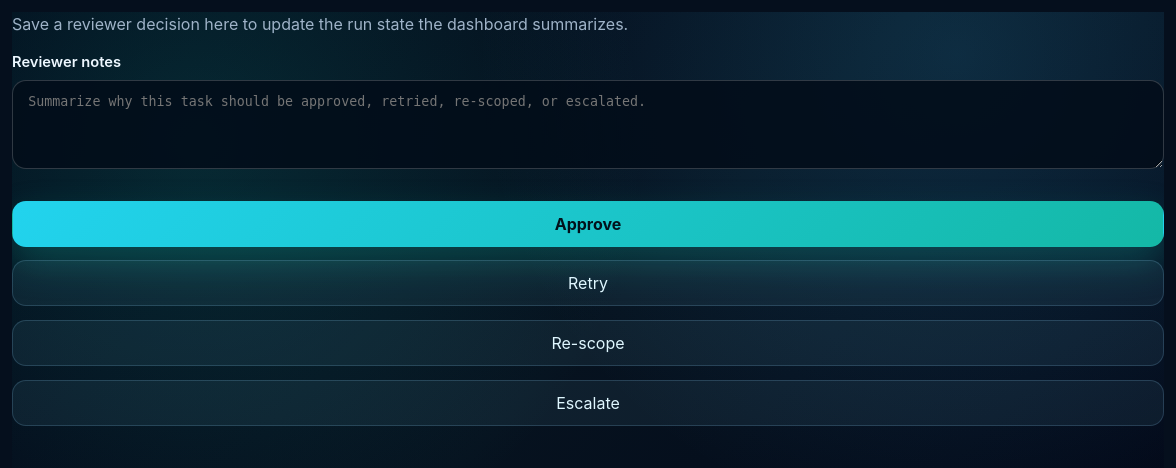
Scenario: App route and page component functions › submits reviewer decisions through TaskDecisionPanelBody
This screenshot has width=1176, height=468.
Replace the text in the text box labelled "Reviewer notes" with "Ship it." at (588, 124), box [12,80,1164,169]
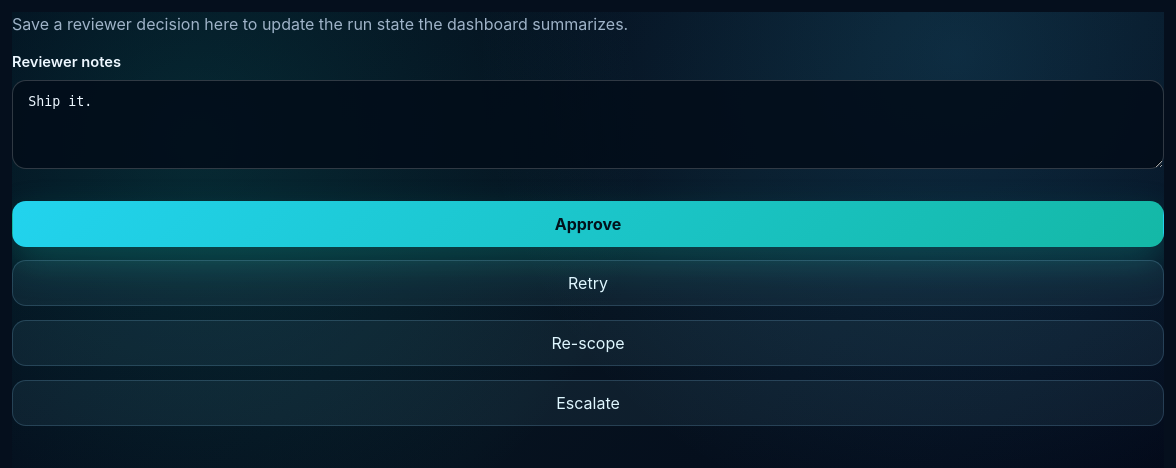
Click the button "Approve" at (588, 224), box [12,201,1164,247]
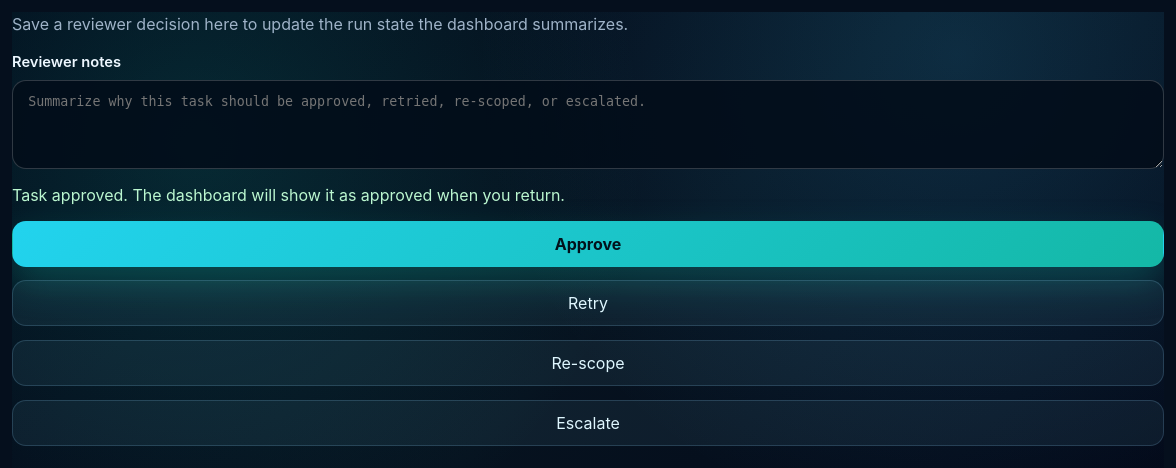
expect the text "Task approved. The dashboard will show it as approved when you return." is shown: met, box [12,185,565,205]
